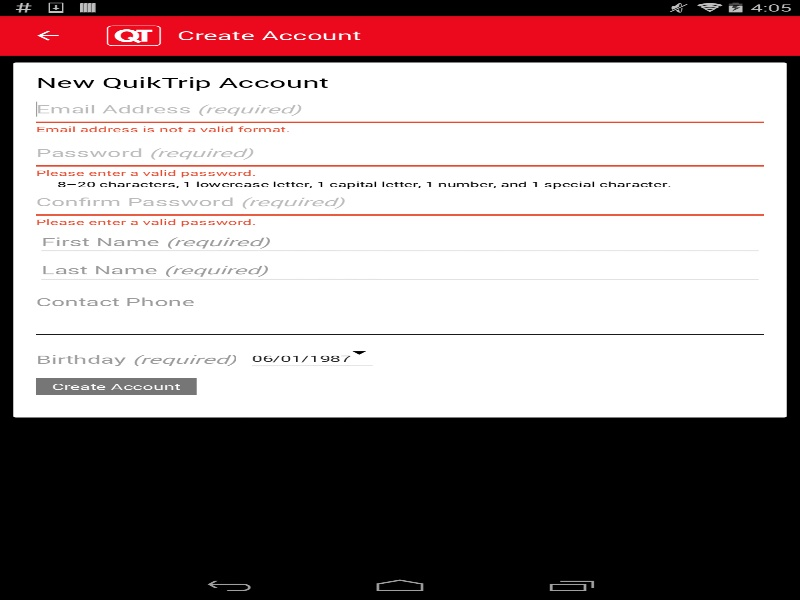Button: (246, 339, 378, 369), (10, 15, 85, 55), (36, 378, 196, 395)
Input: (36, 96, 764, 135), (36, 140, 764, 179), (36, 189, 764, 228), (36, 309, 764, 339), (36, 228, 764, 256), (36, 256, 764, 284)
